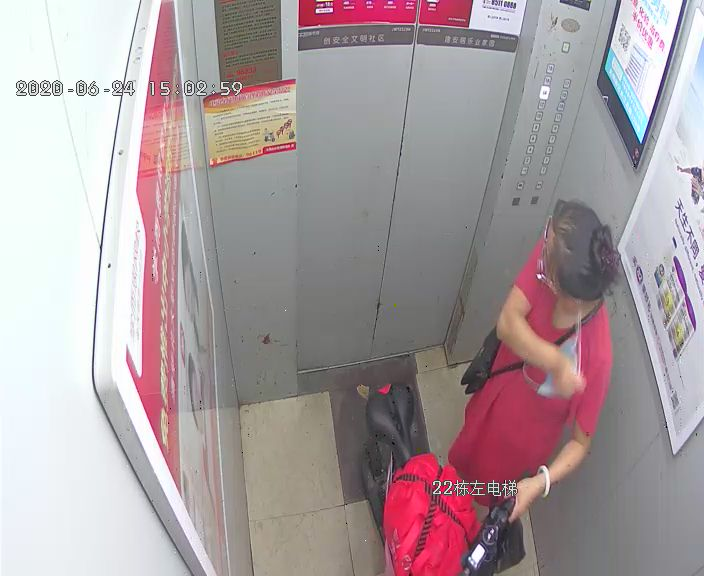Electric-bicycle: (360, 382, 536, 574)
